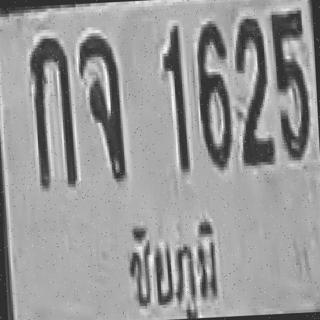A01: (28, 35, 77, 189)
A08: (77, 34, 126, 182)
N01: (160, 24, 188, 172)
N02: (233, 17, 274, 165)
N05: (270, 7, 311, 158)
N06: (194, 19, 233, 170)
P09: (122, 207, 221, 320)
